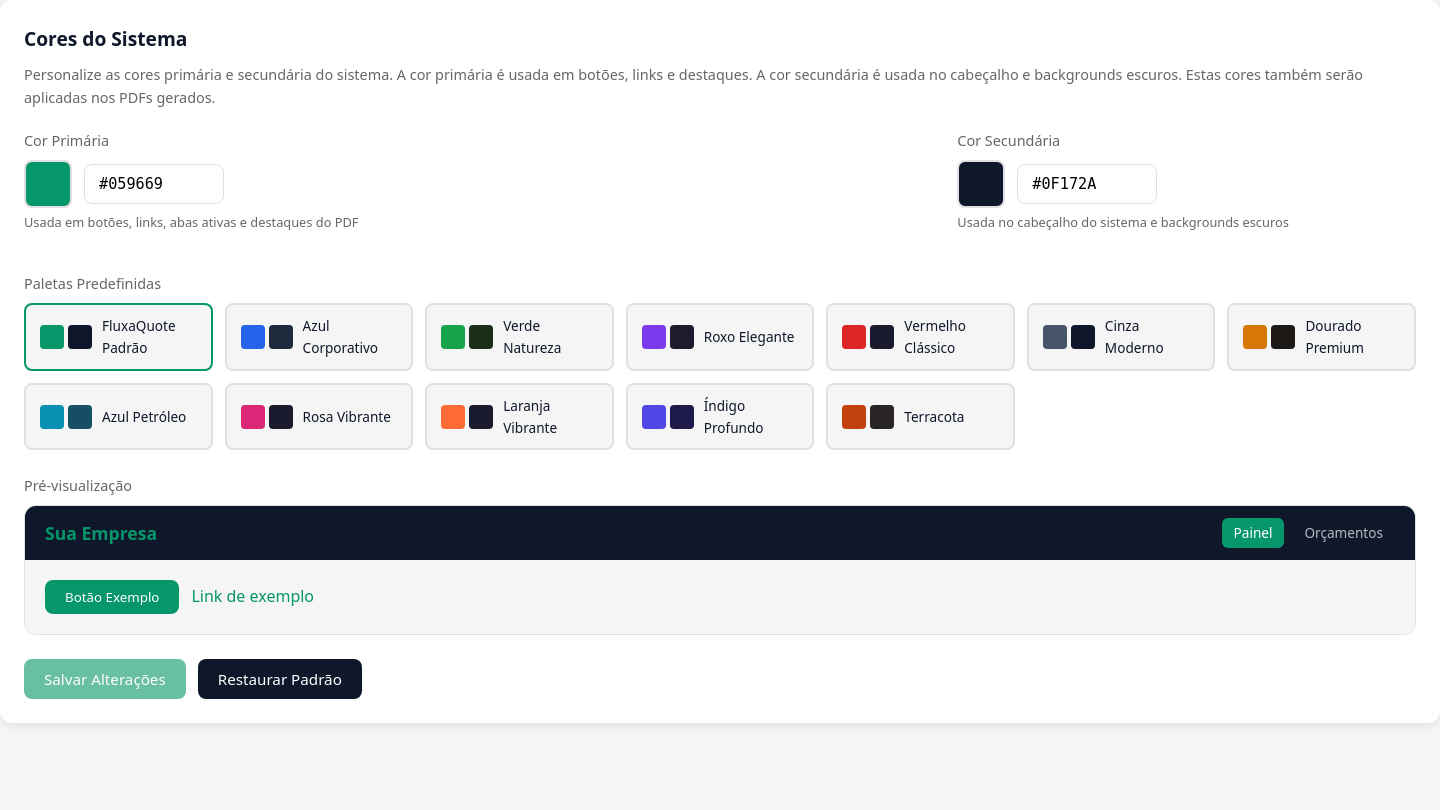
Test: LayoutTab › Salvar › deve mostrar erro para cor secundária inválida
Change secondary color to invalid (target text input, not color picker)
Type "invalid" into the 2nd field with placeholder "#0F172A".
click(1087, 184); type("invalid")  # box [1017,164,1157,204]
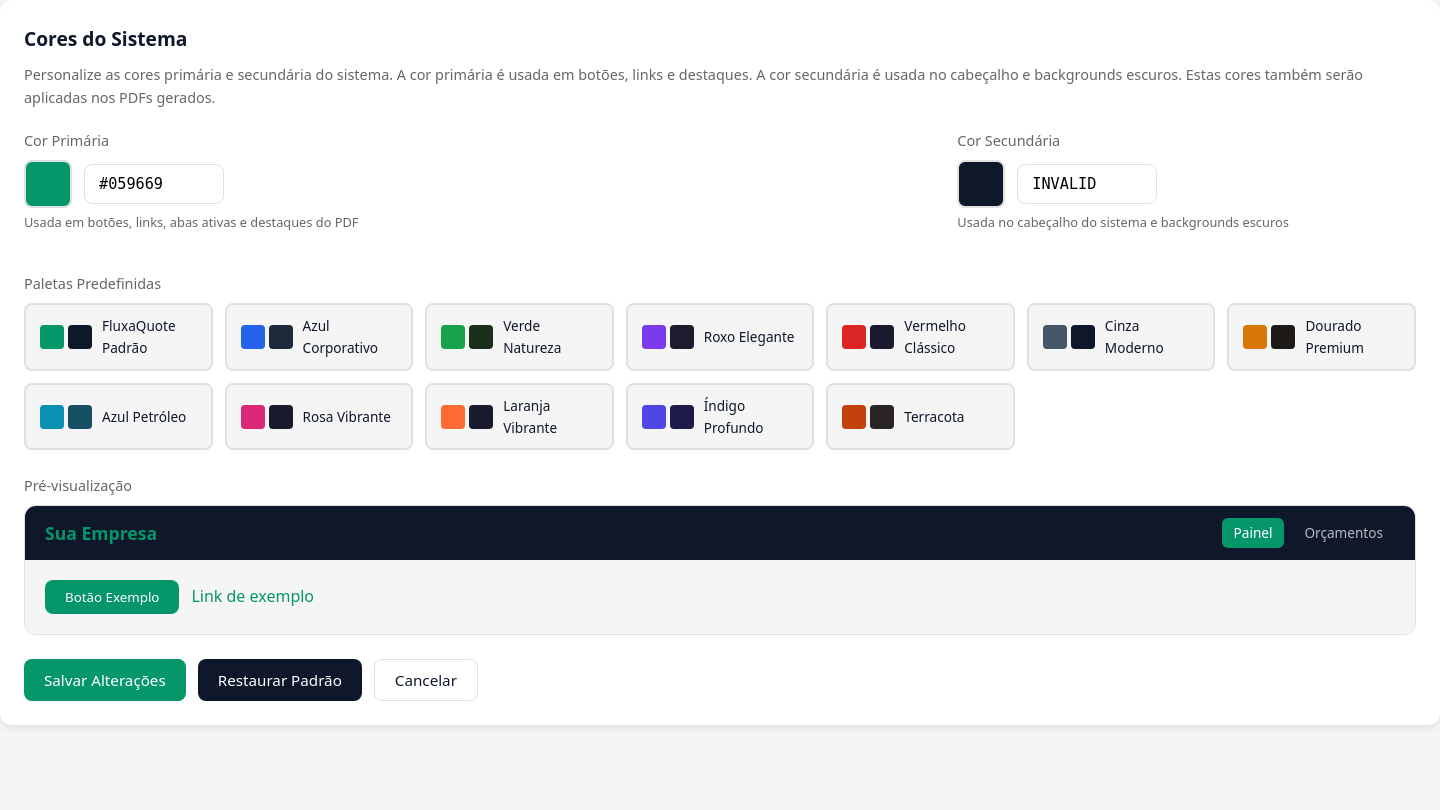
Click the button "Salvar Alterações".
click(105, 680)  # box [24,659,186,701]
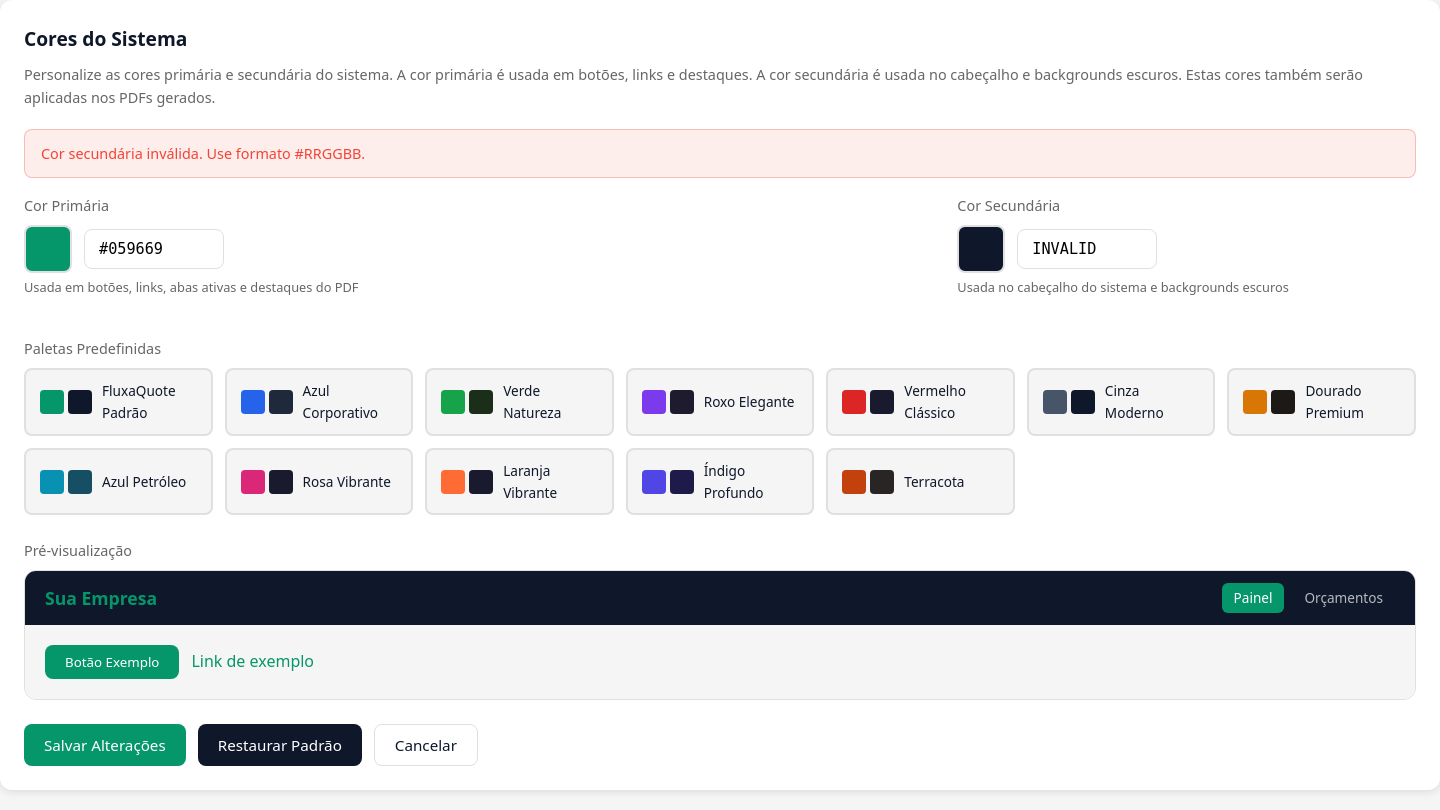
Expected: the text "Cor secundária inválida. Use formato #RRGGBB." is shown, [24,129,1416,178]
